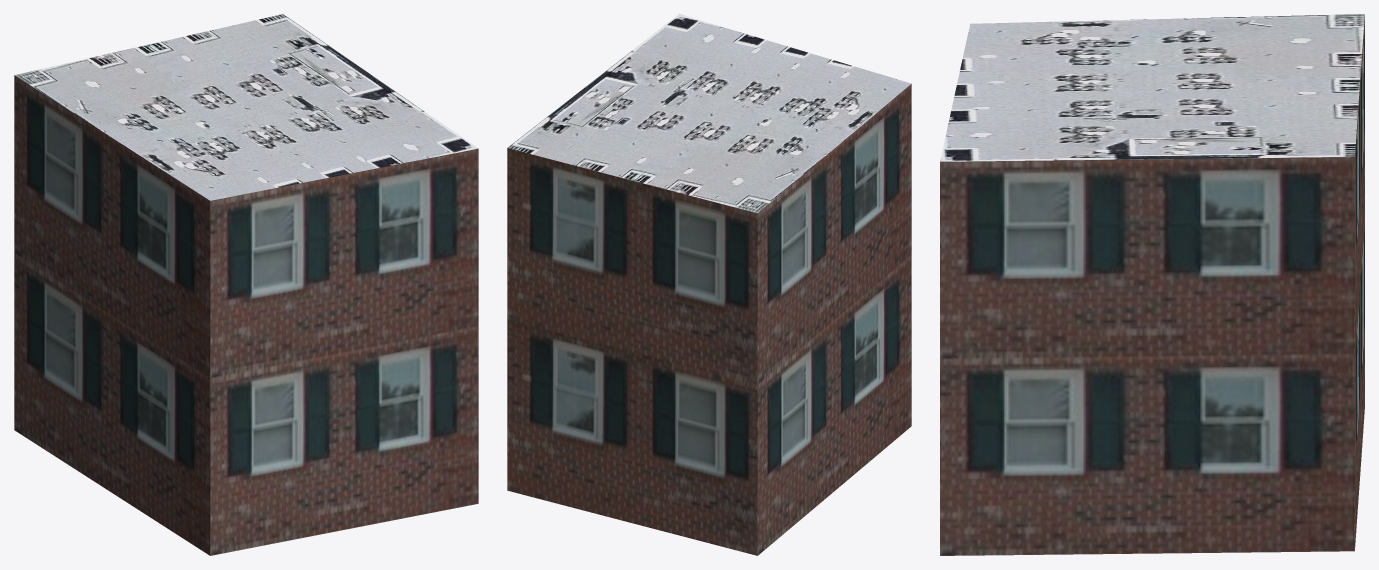
The model's file is ResTex__2652.fbx.
3 views of the same model, side by side, from view 1: azimuth 30°, elevation 25°; view 2: azimuth 150°, elevation 25°; view 3: azimuth 270°, elevation 25° (orthographic). The views are drawn at different scales.
Visible parts, largest first — view 1: CityEngineMaterial_14_m, CityEngineMaterial_8_m; view 2: CityEngineMaterial_14_m, CityEngineMaterial_8_m; view 3: CityEngineMaterial_14_m, CityEngineMaterial_8_m.
Boxes of the visible parts, x1=… form: CityEngineMaterial_14_m: x1=14, y1=75, x2=478, y2=555; CityEngineMaterial_8_m: x1=14, y1=14, x2=477, y2=200; CityEngineMaterial_14_m: x1=507, y1=84, x2=911, y2=555; CityEngineMaterial_8_m: x1=507, y1=14, x2=911, y2=213; CityEngineMaterial_14_m: x1=940, y1=16, x2=1364, y2=555; CityEngineMaterial_8_m: x1=940, y1=14, x2=1364, y2=161.
Bounding box in the file's own units: 4.82 × 6 × 5.86.
2 materials, 2 textured.
